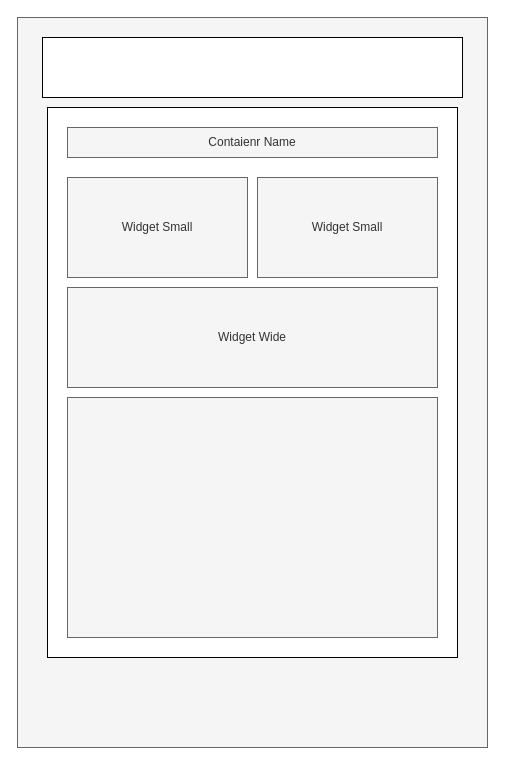
Some shapes in this 505 by 765 pixel diagram are drawn without their labels. Each missing label, with the centre of its shape:
"TITLE" belongs at point (252, 67).
"Widget Large" belongs at point (252, 517).
